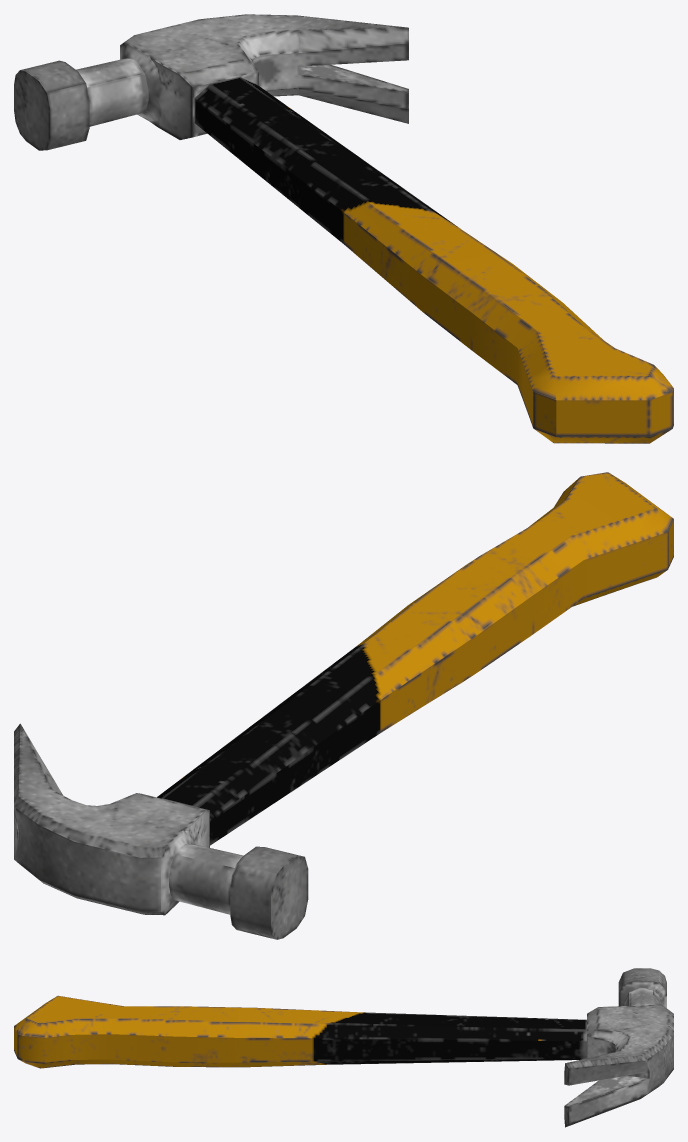
The model's file is malatok.fbx.
3 views of the same model, one above another, from view 1: azimuth 30°, elevation 25°; view 2: azimuth 150°, elevation 25°; view 3: azimuth 270°, elevation 25° (orthographic). The views are drawn at different scales.
Visible parts, largest first — view 1: Cube, Cube.001; view 2: Cube, Cube.001; view 3: Cube, Cube.001.
Part boxes in pixels (left/top/right/bottom): Cube: left=194, top=77, right=673, bottom=443; Cube.001: left=14, top=14, right=408, bottom=150; Cube: left=157, top=472, right=673, bottom=845; Cube.001: left=14, top=723, right=308, bottom=939; Cube: left=14, top=995, right=586, bottom=1068; Cube.001: left=564, top=968, right=673, bottom=1127.
Size of the model in its own units: 172 by 49.17 by 457.
1 material, 1 textured.
